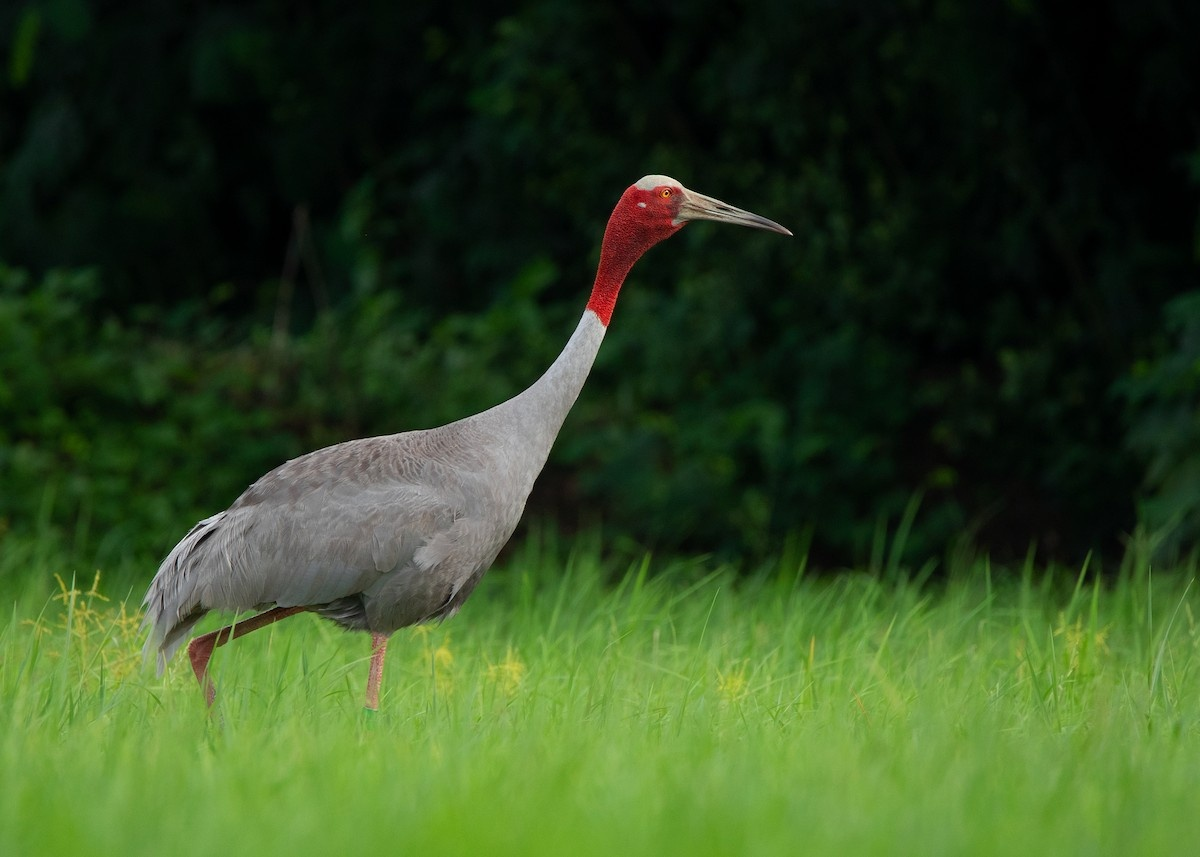crane: (148, 152, 800, 723)
